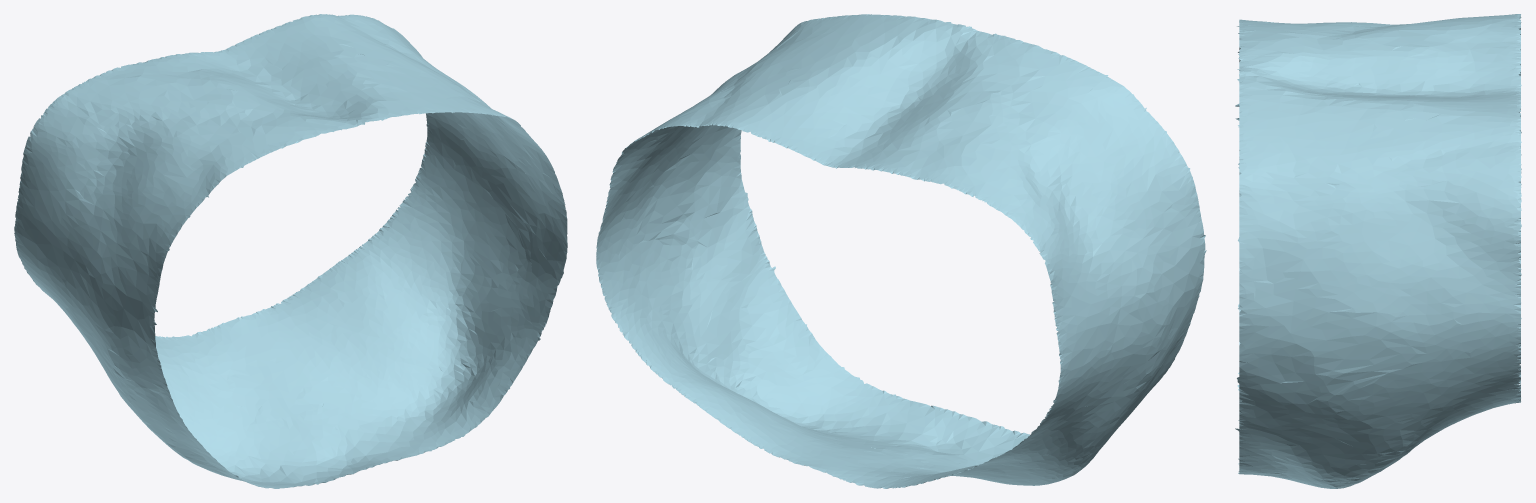
Rendered from skin.obj.
The picture shows the model from 3 angles, left to right: view 1: azimuth 30°, elevation 25°; view 2: azimuth 150°, elevation 25°; view 3: azimuth 270°, elevation 25°; orthographic projection. The views are drawn at different scales.
Visible parts, largest first — view 1: grp1; view 2: grp1; view 3: grp1.
Boxes of the visible parts, x1,y1,x2,y2 form: grp1: (14, 14, 567, 488); grp1: (596, 14, 1206, 488); grp1: (1235, 14, 1521, 488).
Bounding box in the file's own units: 326 × 262 × 181.
